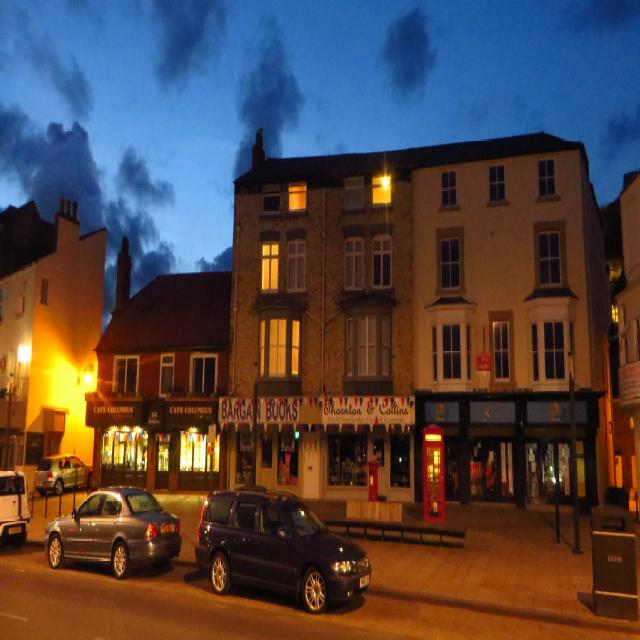car: (191, 478, 370, 610), (41, 480, 181, 578)
